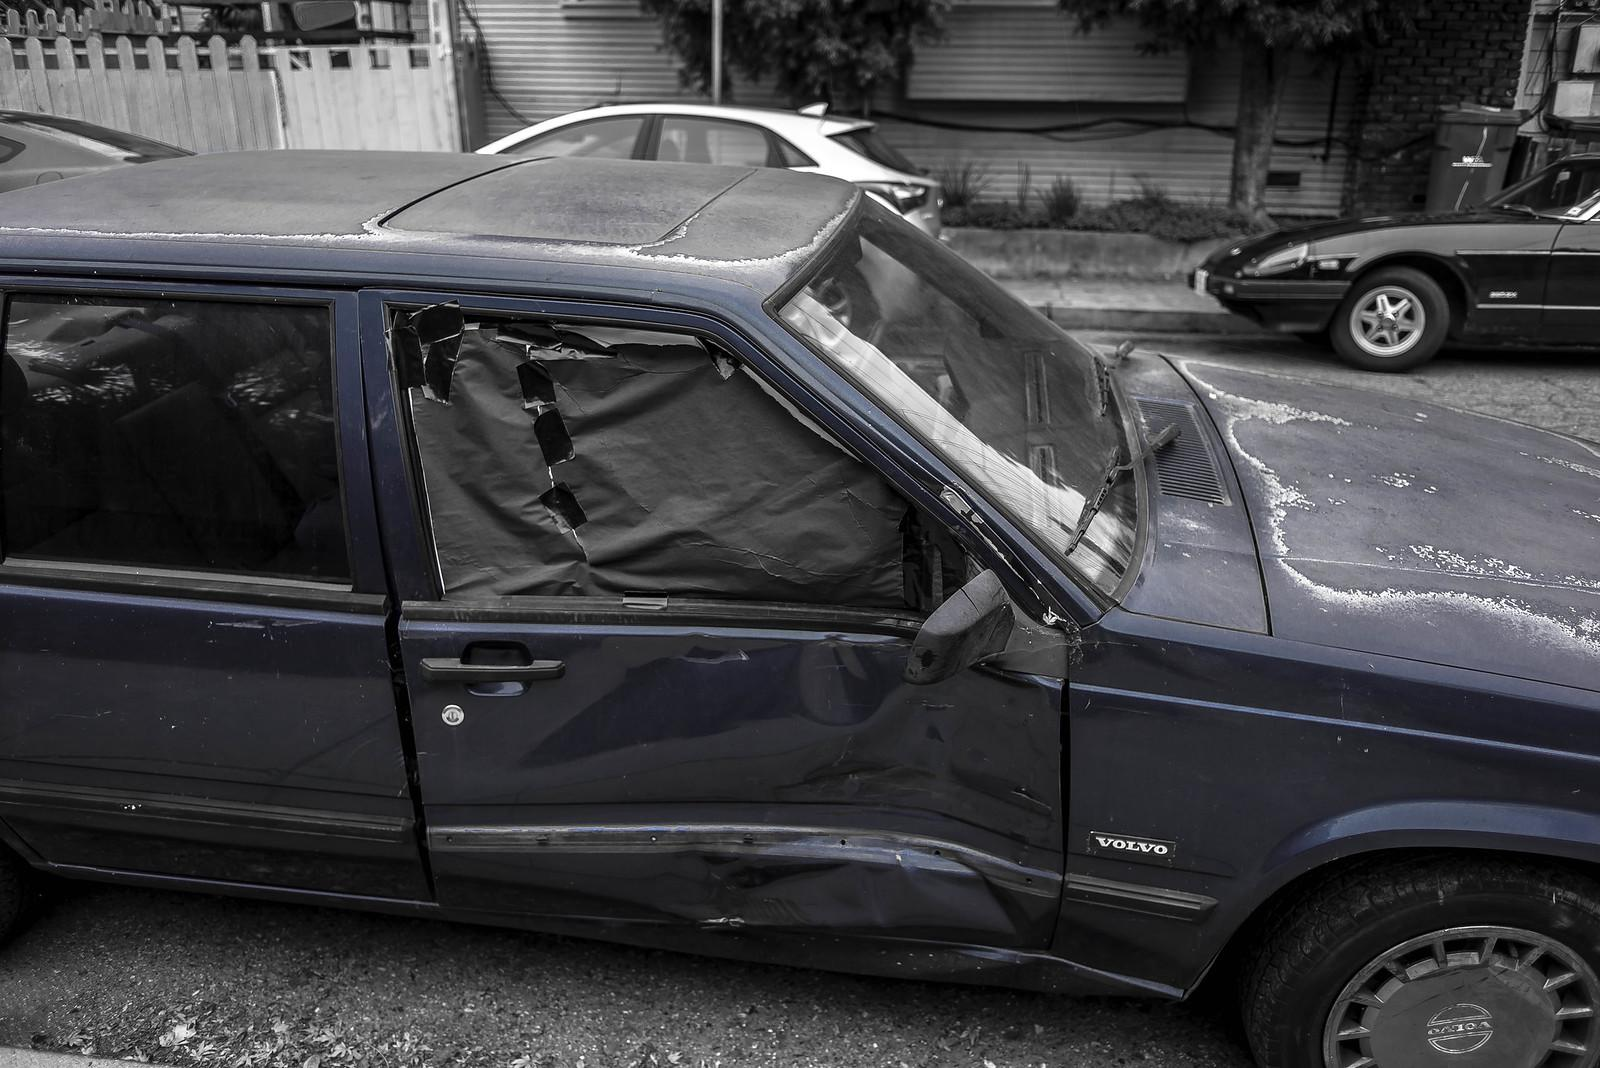bonnet-dent: (1185, 353, 1599, 706)
doorouter-dent: (406, 625, 1065, 991)
fender-dent: (1073, 663, 1312, 1005)
